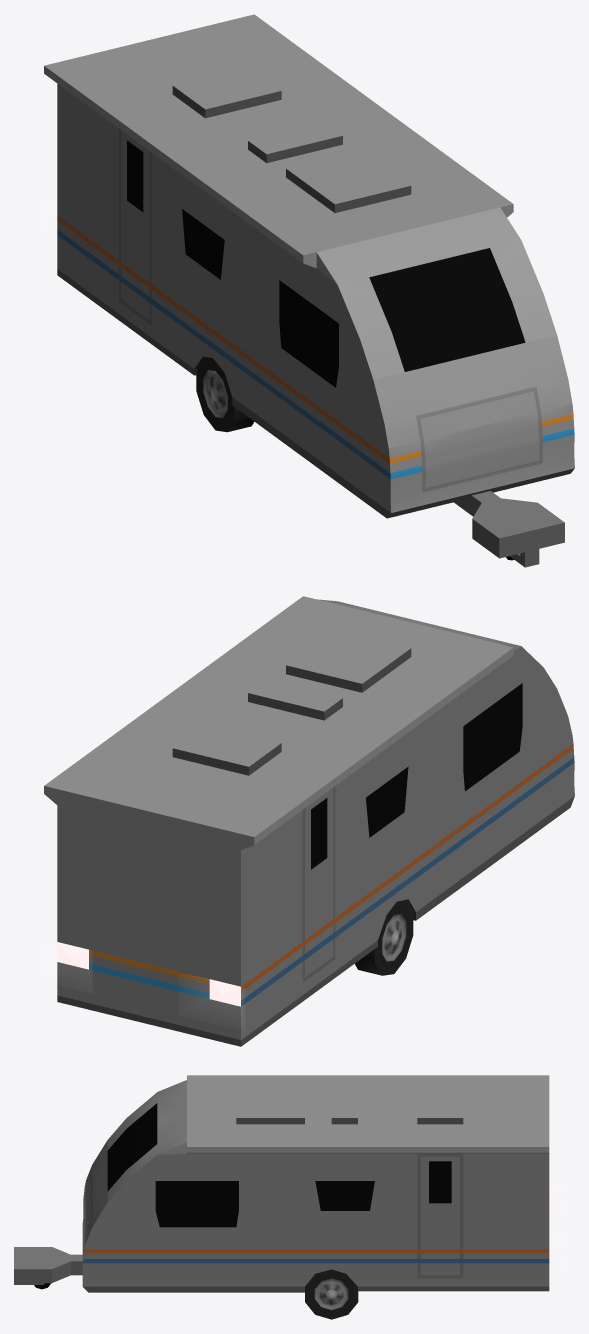
Rendered from buildings-residential-caravan_v1.glb.
The picture shows the model from 3 angles, top to bottom: view 1: azimuth 30°, elevation 25°; view 2: azimuth 150°, elevation 25°; view 3: azimuth 270°, elevation 25°; orthographic projection. The views are drawn at different scales.
Visible parts, largest first — view 1: Caravan_base, Caravan_windowRefl, Caravan_refl; view 2: Caravan_base, Caravan_windowRefl, Caravan_light, Caravan_refl; view 3: Caravan_base, Caravan_windowRefl, Caravan_refl, Caravan_light.
Boxes of the visible parts, x1,y1,x2,y2 form: Caravan_base: (44,14,574,560); Caravan_windowRefl: (127,140,525,387); Caravan_refl: (203,370,564,567); Caravan_base: (44,596,574,1046); Caravan_windowRefl: (311,683,522,869); Caravan_light: (56,942,241,1006); Caravan_refl: (382,913,406,961); Caravan_base: (34,1075,549,1319); Caravan_windowRefl: (107,1103,451,1227); Caravan_refl: (14,1247,348,1310); Caravan_light: (549,1183,554,1266).
Size of the model in its own units: 3.02 by 3.25 by 8.98.
